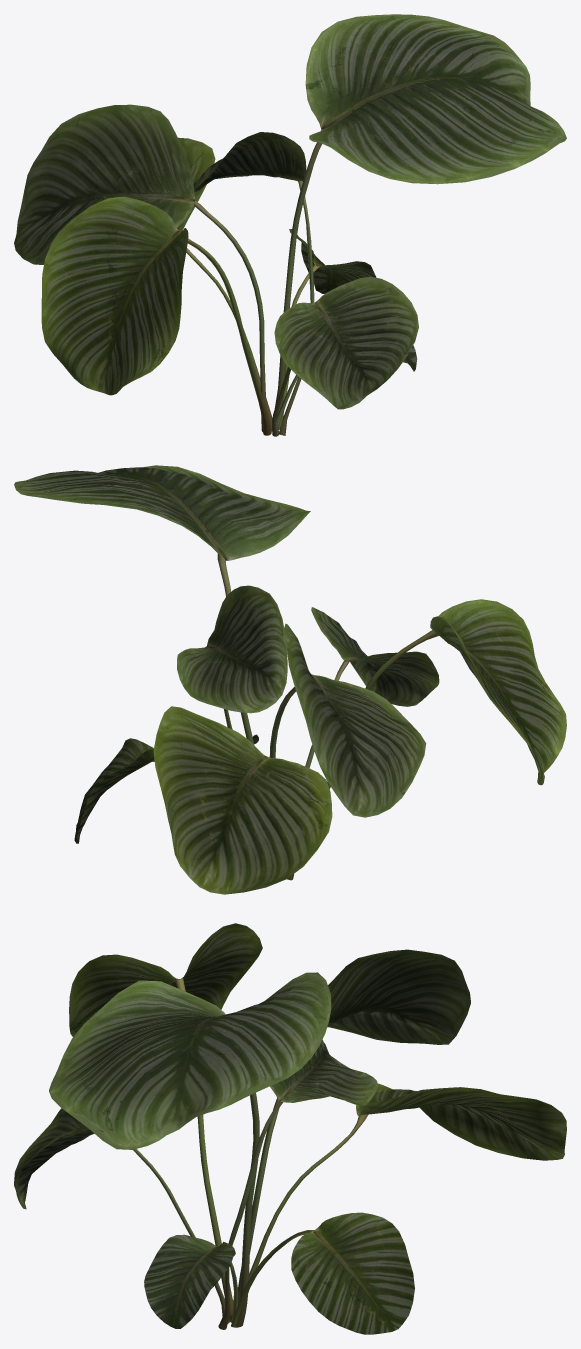
Rendered from urbanCalathea.glb.
3 renders of one model, top to bottom at view 1: azimuth 30°, elevation 25°; view 2: azimuth 150°, elevation 25°; view 3: azimuth 270°, elevation 25°, orthographic. The views are drawn at different scales.
Visible parts, largest first — view 1: calathea_orbifolia_01_a; view 2: calathea_orbifolia_01_a; view 3: calathea_orbifolia_01_a.
Boxes of the visible parts, <box> form: calathea_orbifolia_01_a: <box>14,14,566,436</box>; calathea_orbifolia_01_a: <box>14,465,566,894</box>; calathea_orbifolia_01_a: <box>14,923,566,1334</box>.
Size of the model in its own units: 0.6006 by 0.4243 by 0.5256.
Materials: 1 (1 with a texture image).
